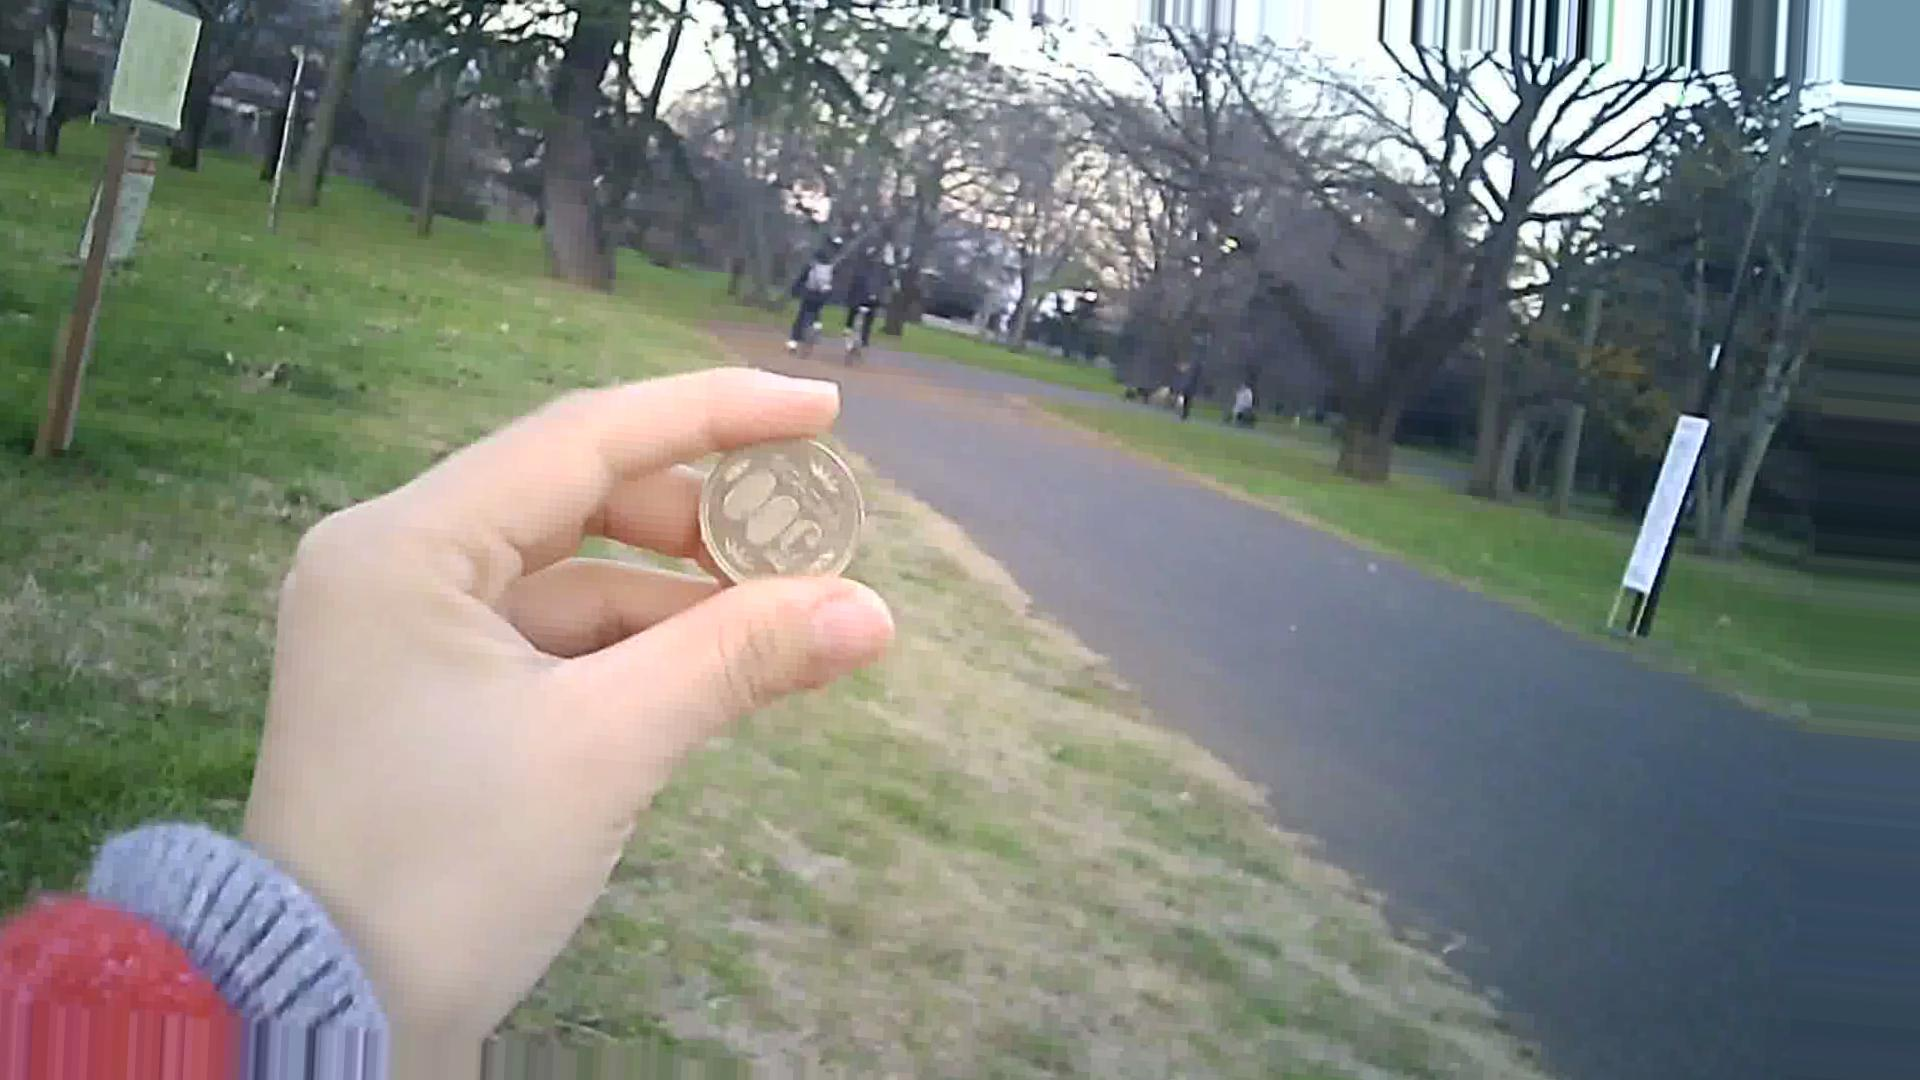500 Yen: (691, 407, 862, 597)
